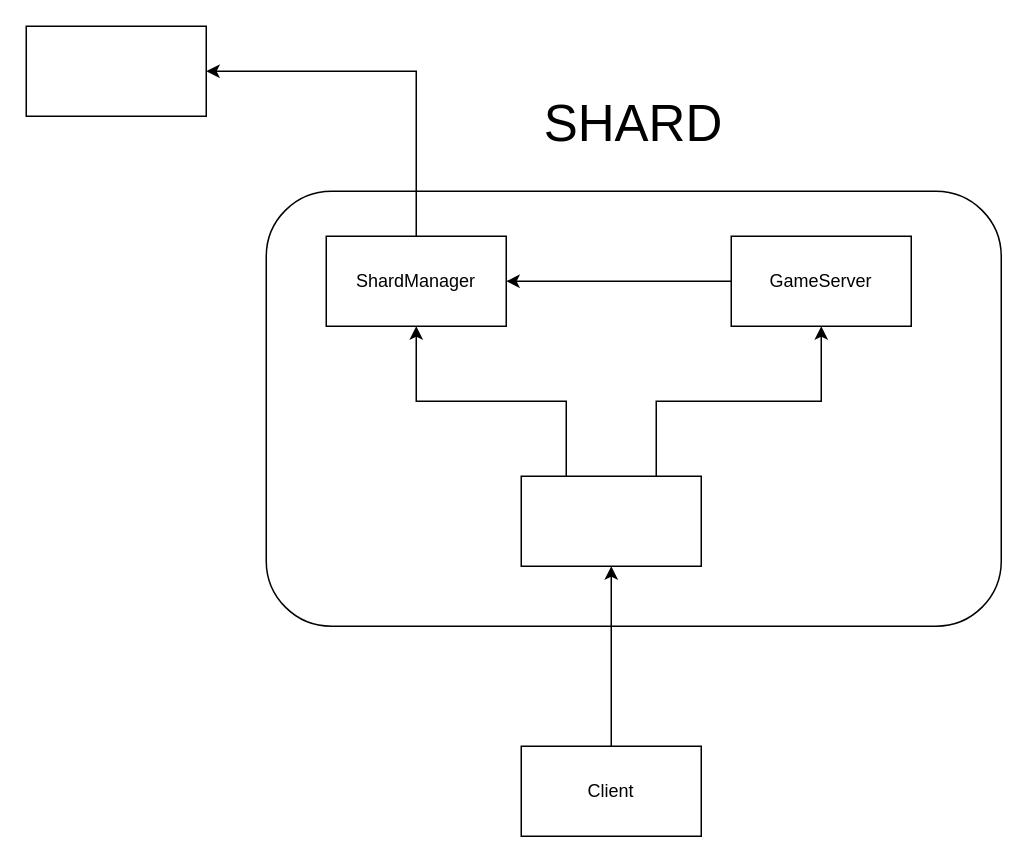
Image size: 1028x863. Some labels were removed from this diagram. The centre of each missing label's shape, as x and y in pixels:
"AgentServer" goes at pixel 610 520.
"GlobalManager" goes at pixel 115 70.
